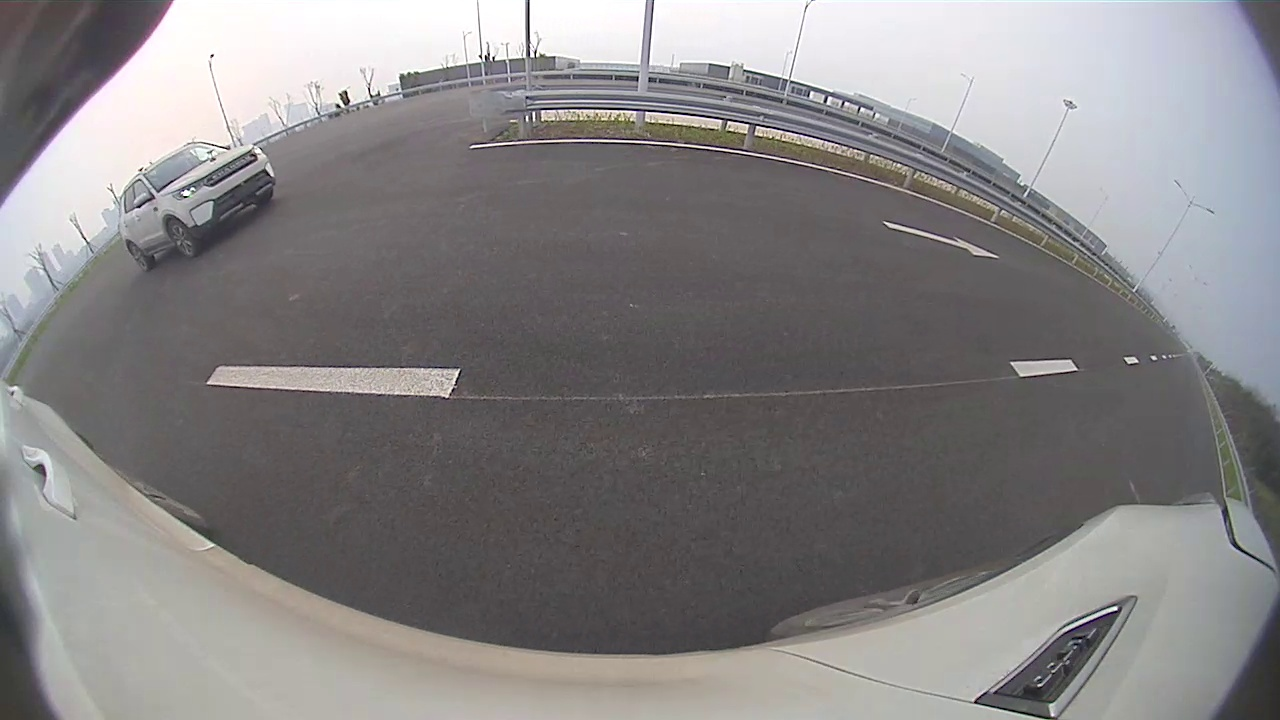car: (119, 141, 277, 273)
front: (163, 216, 198, 260)
rear: (126, 240, 153, 272)
